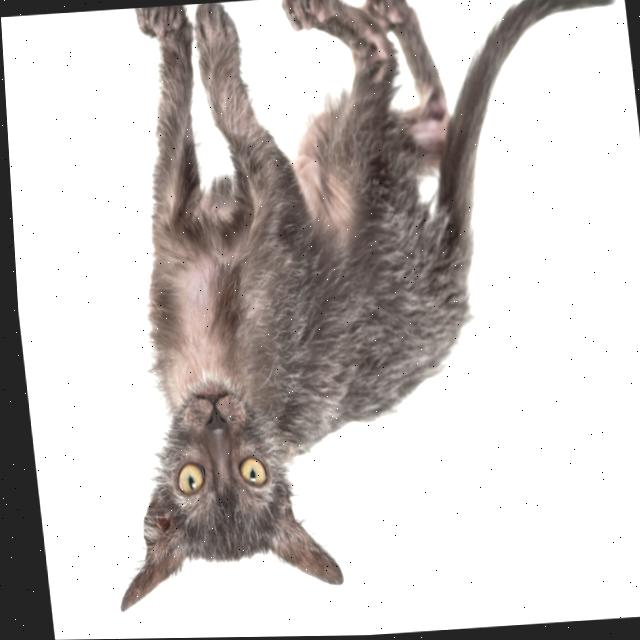Lykoi: (49, 0, 640, 619)
